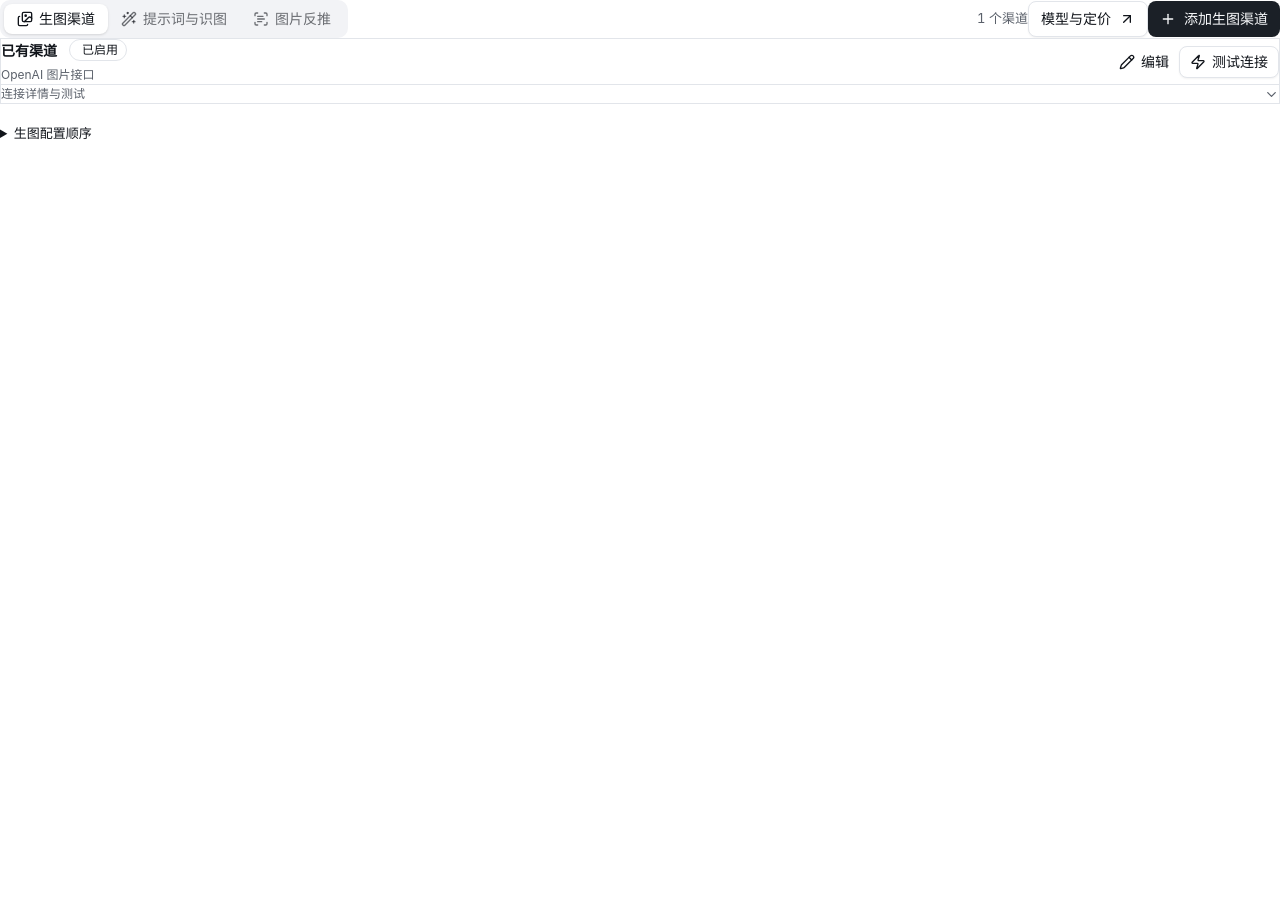
Test: distinguishes connection checks from paid generation and reports failures on the service
The width and height of the screenshot is (1280, 900).
Click the button "测试连接": [1229, 62] box [1179, 46, 1279, 78]
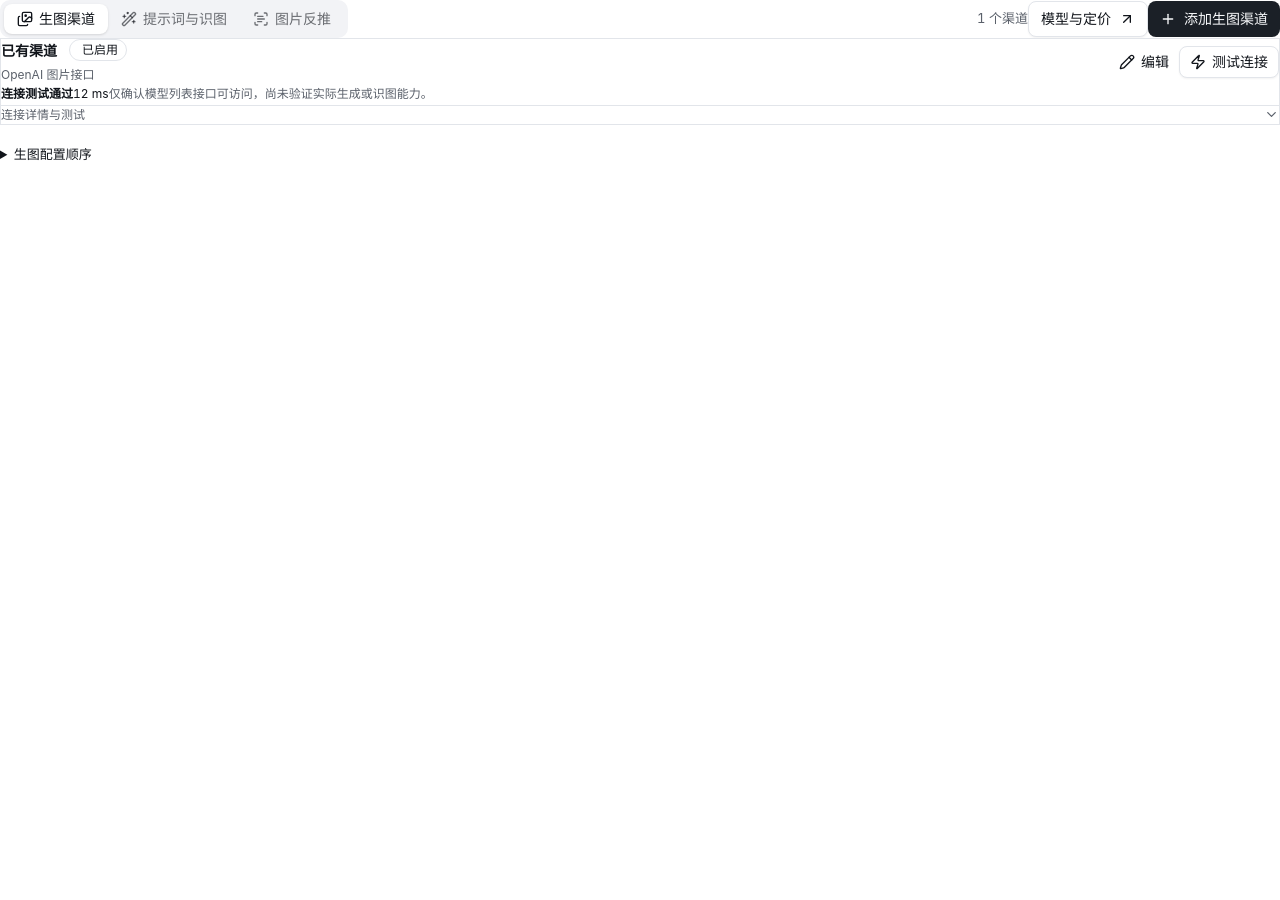
Result: the element named "已有渠道" shows "连接测试通过" at [0, 38, 1279, 125]
Result: the element named "已有渠道" shows "尚未验证实际生成或识图能力" at [109, 86, 433, 101]
Click the heading "连接详情与测试": [43, 114] box [1, 106, 1279, 124]
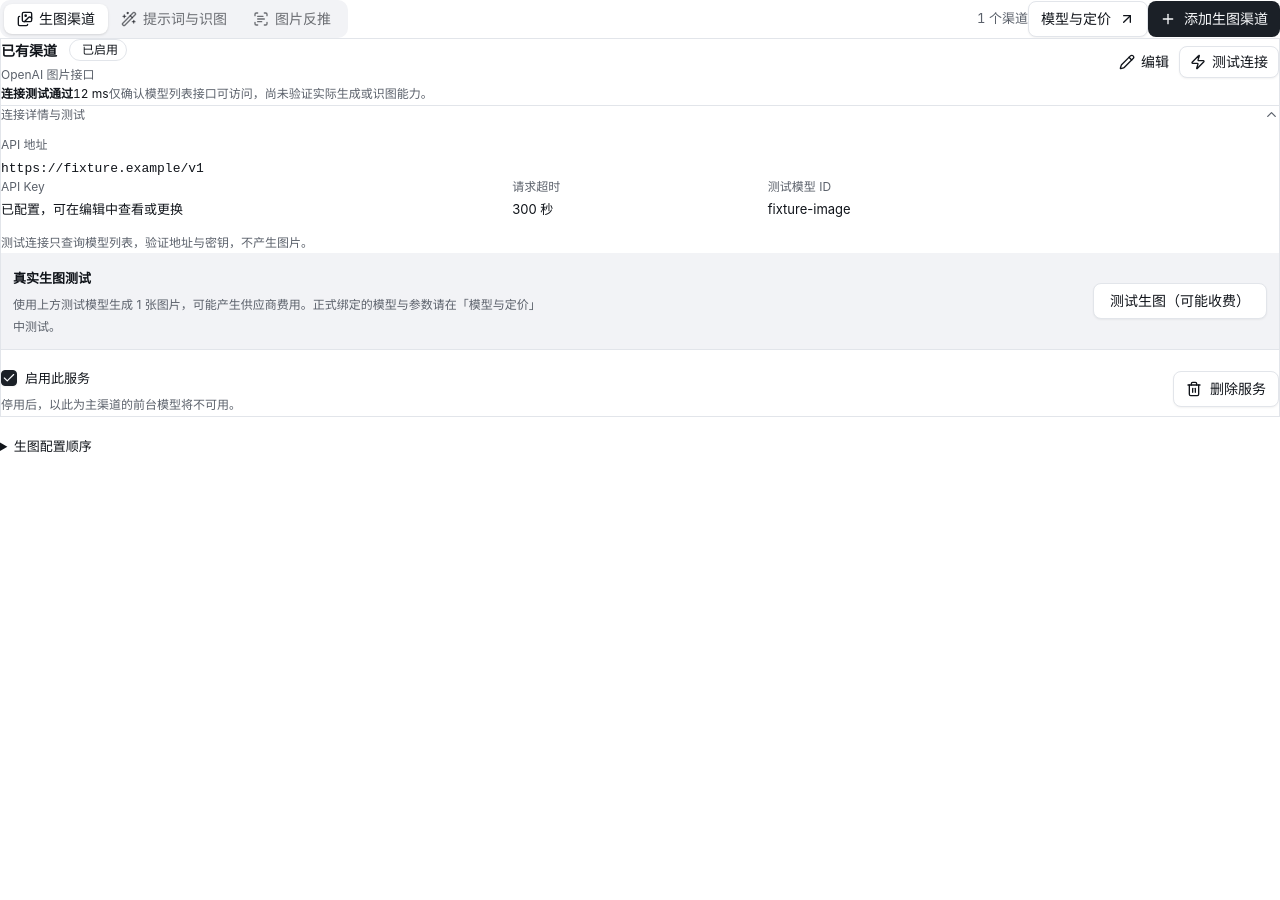
Click the button "测试生图（可能收费）": [1180, 301] box [1093, 283, 1267, 319]
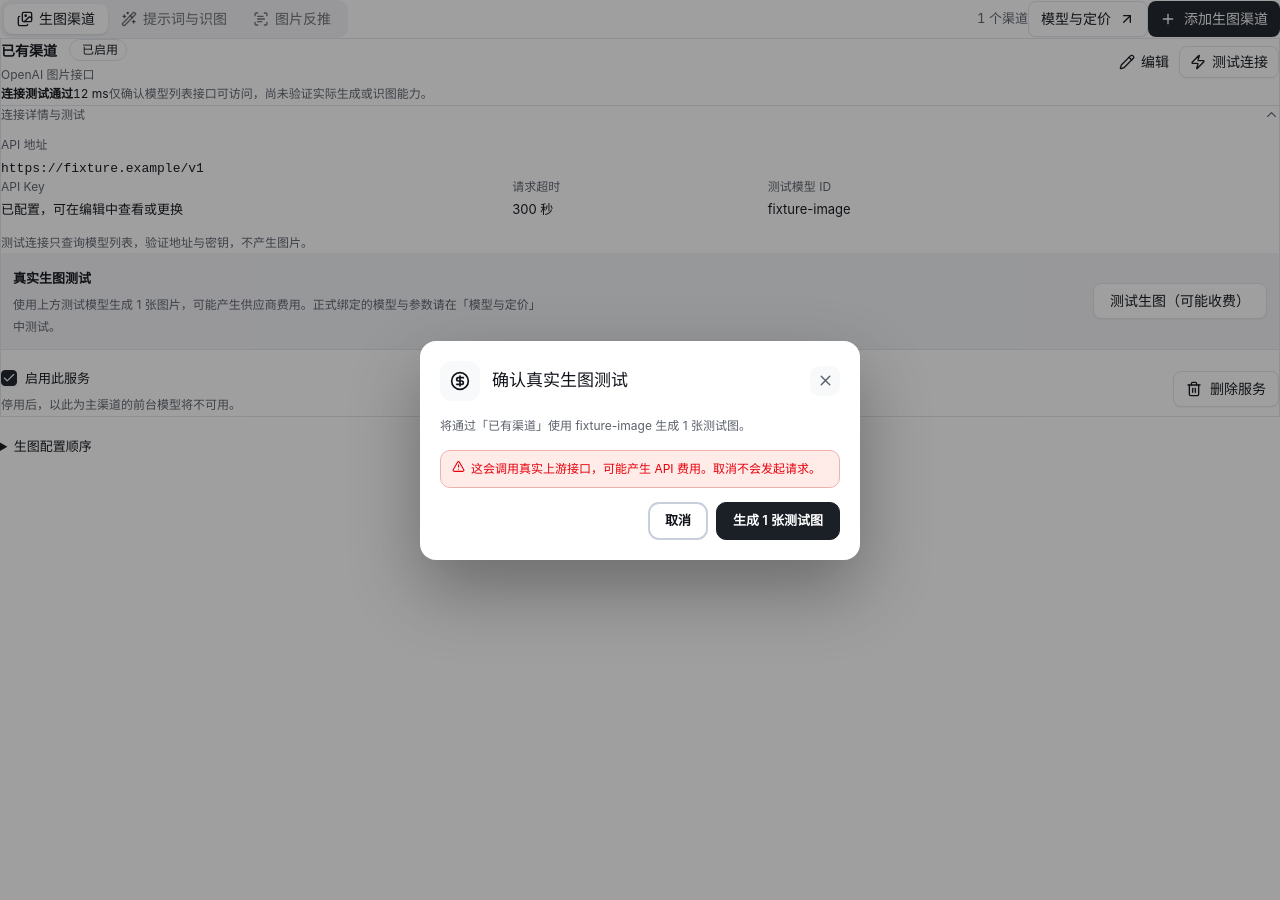
Result: the dialog shows "确认真实生图测试" at [492, 370, 628, 390]
Click the button "取消": [678, 520] box [648, 502, 708, 540]
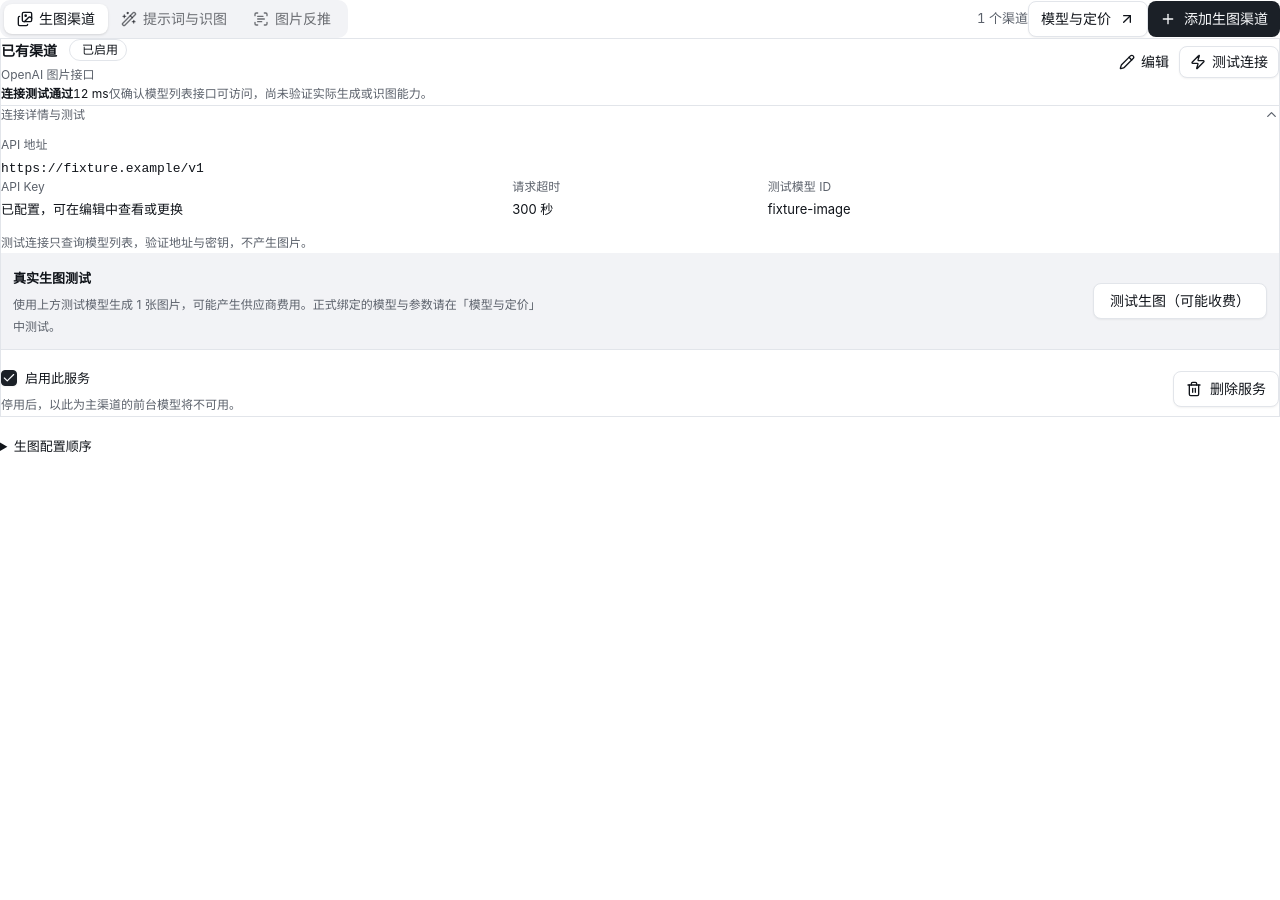
Click the button "测试连接": [1229, 62] box [1179, 46, 1279, 78]
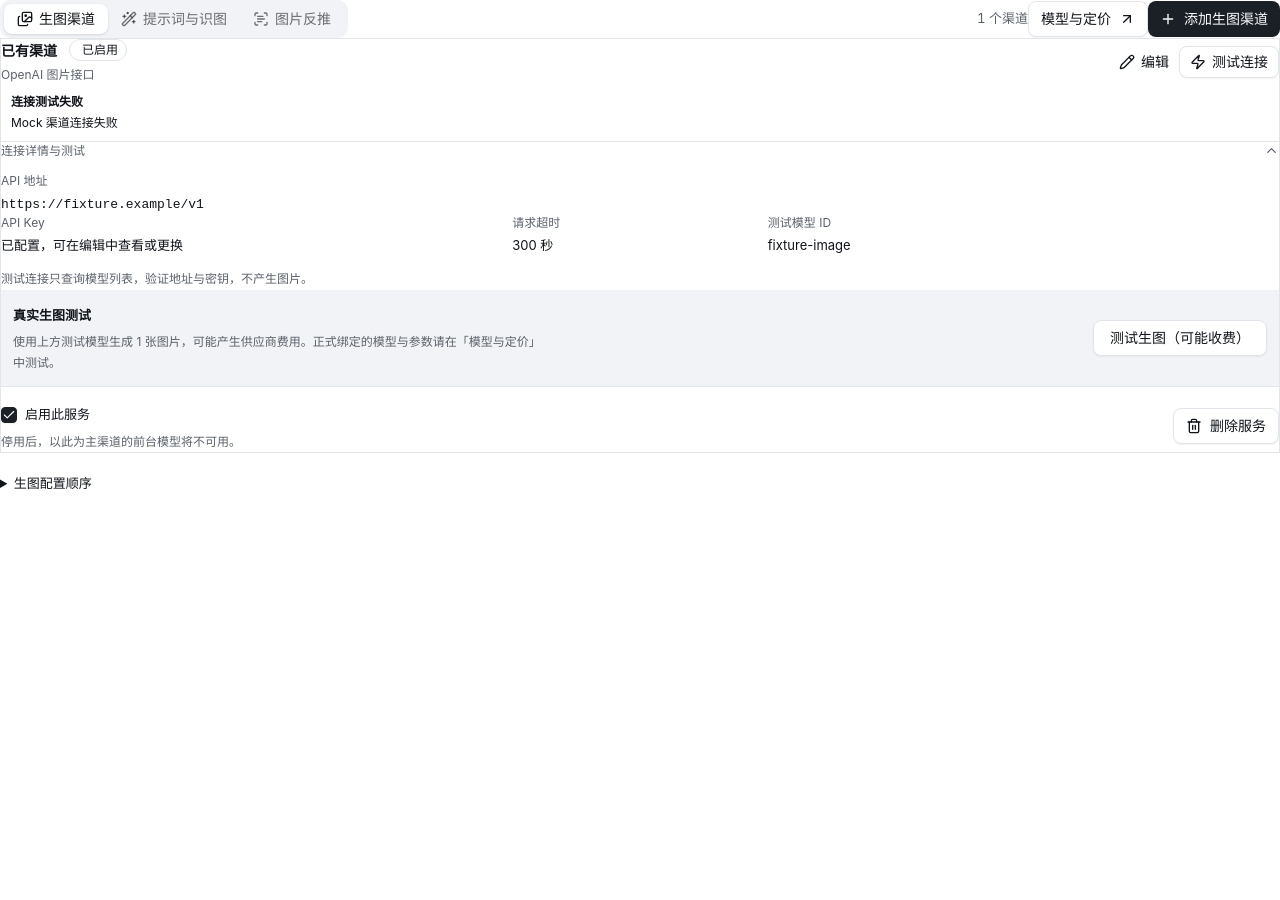
Result: the element named "已有渠道" shows "Mock 渠道连接失败" at [11, 115, 118, 130]
